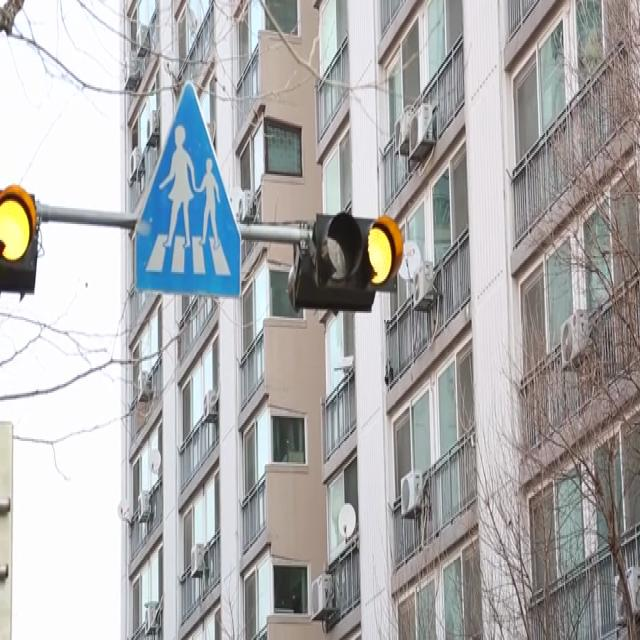yellow_light: (304, 207, 411, 309)
